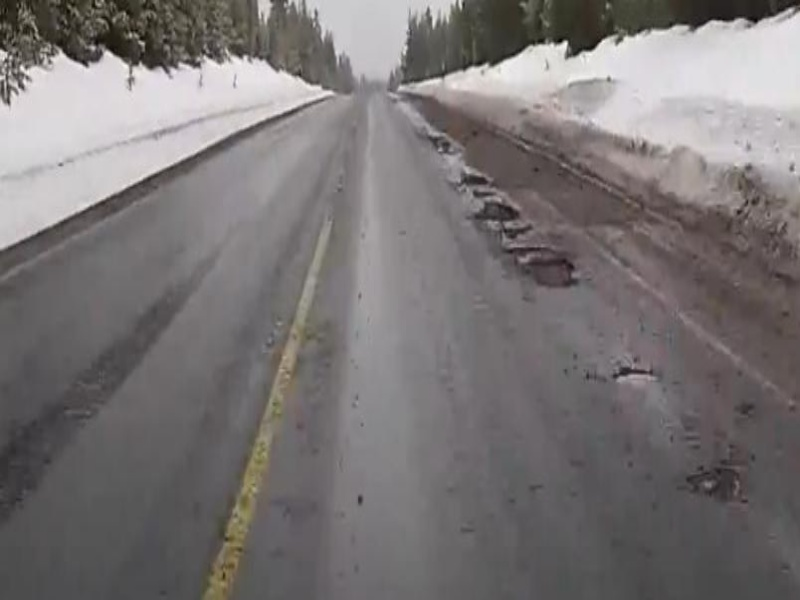pothole: (506, 243, 580, 291), (684, 467, 746, 501), (468, 197, 524, 227), (610, 366, 662, 381)
